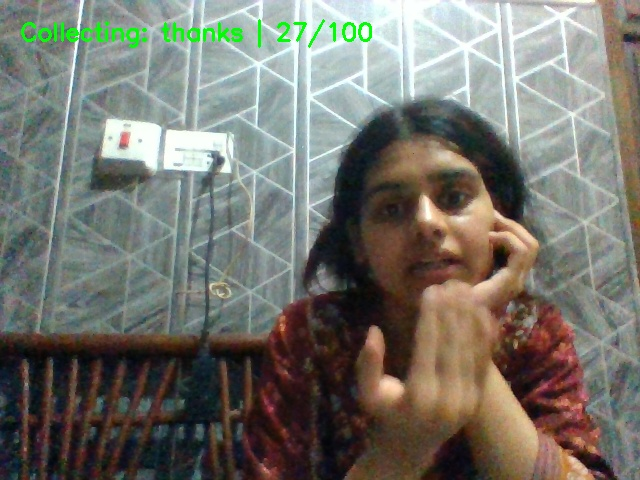thanks: (346, 280, 515, 470)
